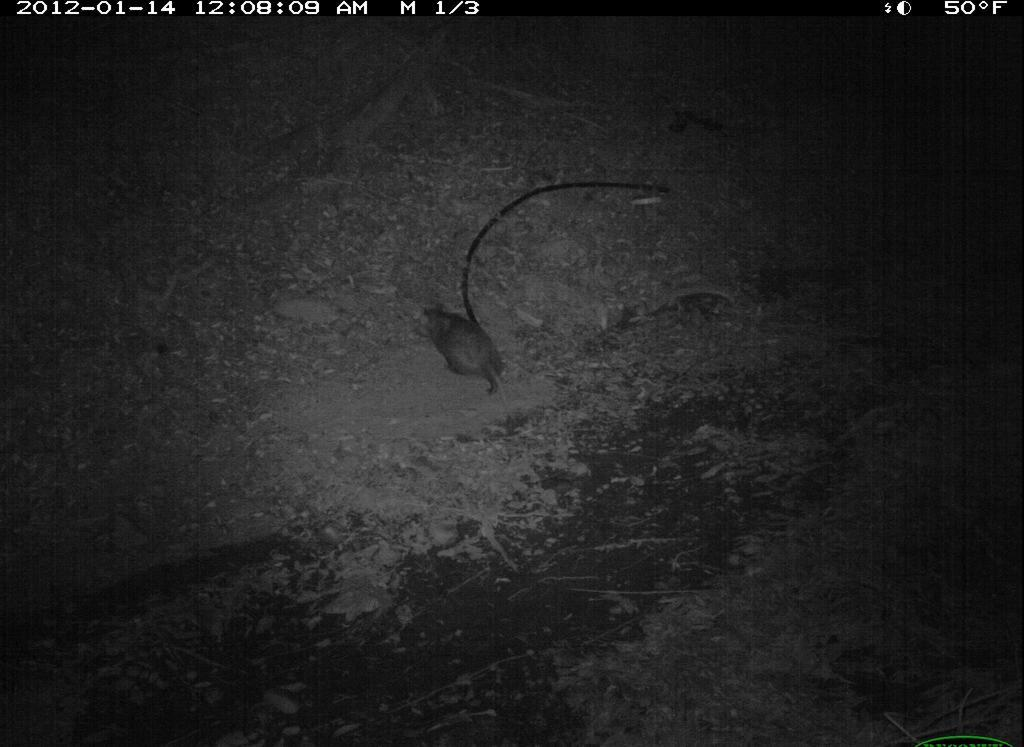opossum: (406, 281, 533, 433)
